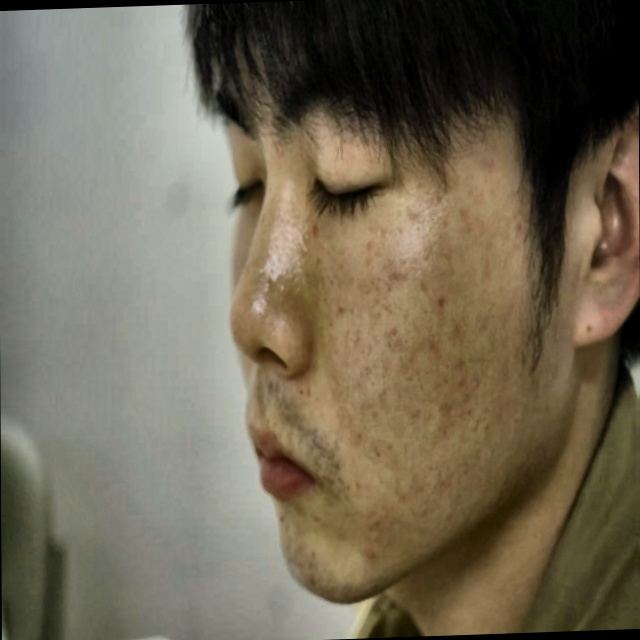comedone: (361, 540, 387, 563)
